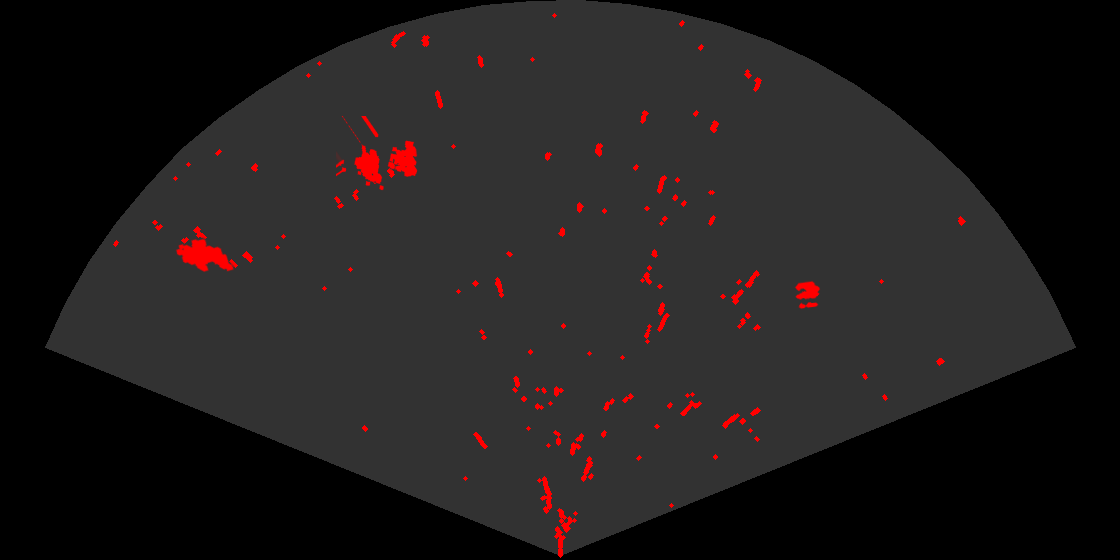AUV: (174, 237, 236, 274)
ball: (793, 279, 822, 311)
cage: (336, 116, 419, 192)
